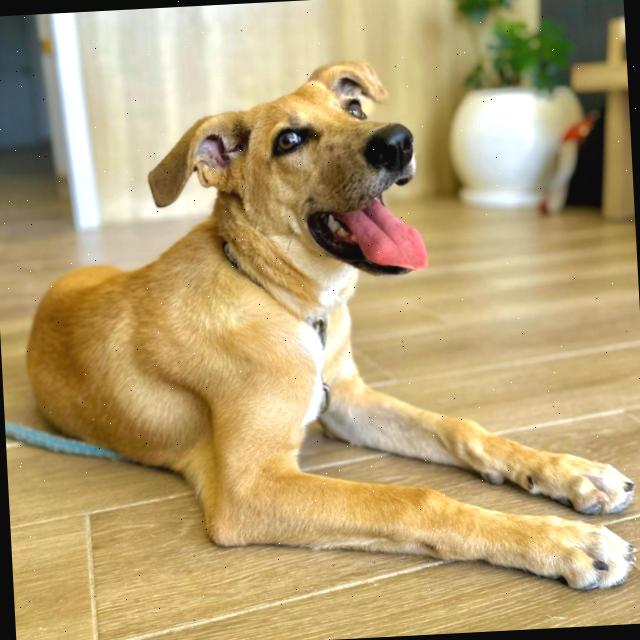labrador_retriever_dog: (134, 43, 442, 325)
